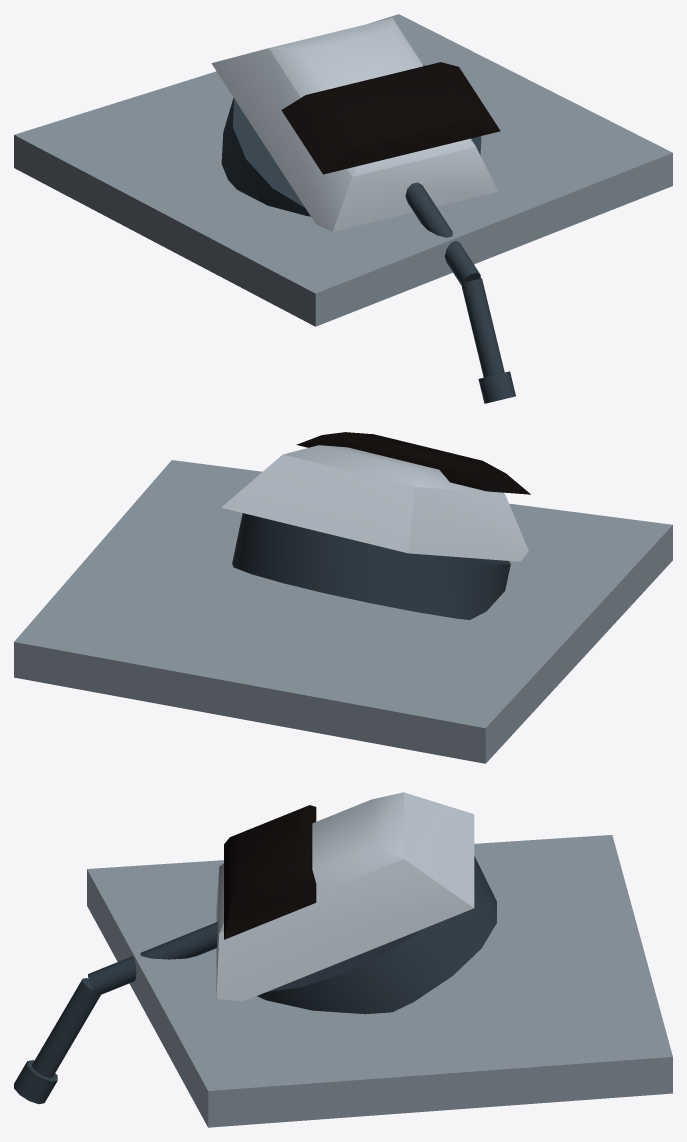
File: debris_turret.glb
The picture shows the model from 3 angles, top to bottom: view 1: azimuth 30°, elevation 25°; view 2: azimuth 150°, elevation 25°; view 3: azimuth 270°, elevation 25°; orthographic projection. The views are drawn at different scales.
Visible parts, largest first — view 1: float_deck, shield, scorch, base, barrel_b_m, barrel_a_m, muzzle_brake; view 2: float_deck, shield, base, scorch; view 3: float_deck, shield, base, scorch, barrel_a_m, barrel_b_m, muzzle_brake.
Part boxes in pixels (bbox=[...]): float_deck: bbox=[14, 14, 672, 326]; shield: bbox=[211, 18, 497, 231]; scorch: bbox=[281, 62, 500, 174]; base: bbox=[221, 65, 481, 216]; barrel_b_m: bbox=[461, 278, 504, 377]; barrel_a_m: bbox=[405, 182, 480, 284]; muzzle_brake: bbox=[478, 371, 515, 403]; float_deck: bbox=[14, 460, 672, 763]; shield: bbox=[221, 445, 528, 561]; base: bbox=[232, 513, 510, 619]; scorch: bbox=[296, 432, 530, 494]; float_deck: bbox=[87, 835, 672, 1127]; shield: bbox=[216, 792, 474, 1001]; base: bbox=[257, 856, 496, 1014]; scorch: bbox=[224, 805, 316, 939]; barrel_a_m: bbox=[88, 921, 217, 994]; barrel_b_m: bbox=[32, 978, 100, 1077]; muzzle_brake: bbox=[14, 1060, 57, 1104].
Size of the model in its own units: 3 by 1.52 by 3.26.
